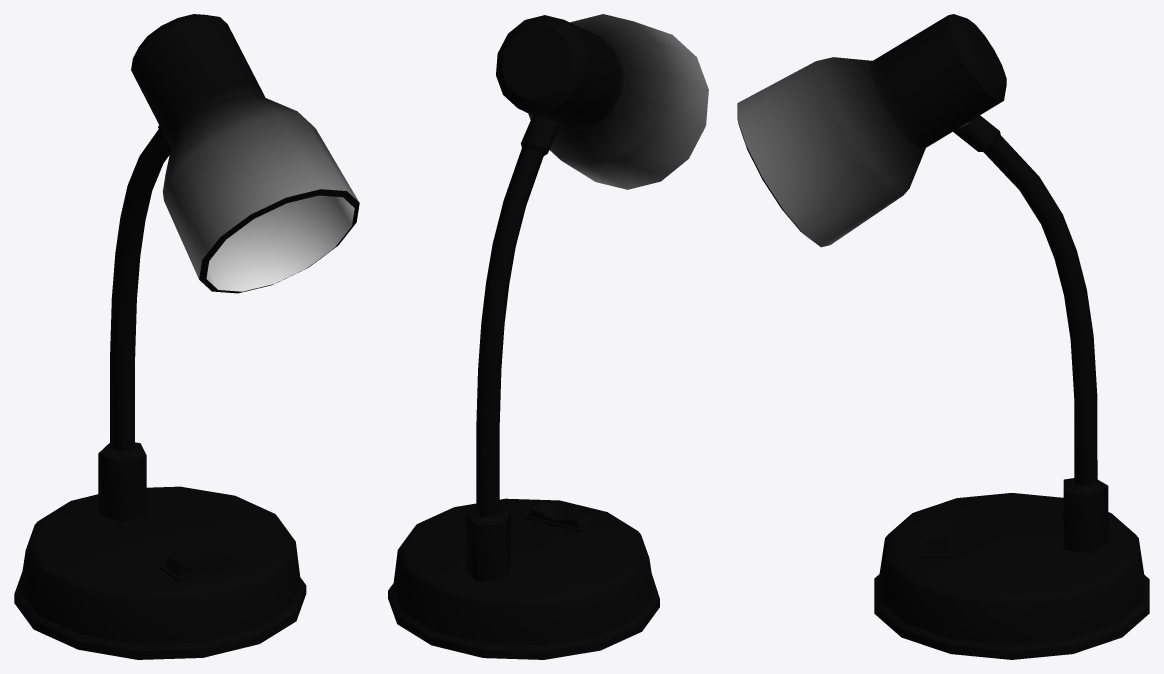
Rendered from lamp_desk.fbx.
The picture shows the model from 3 angles, left to right: view 1: azimuth 30°, elevation 25°; view 2: azimuth 150°, elevation 25°; view 3: azimuth 270°, elevation 25°; orthographic projection. The views are drawn at different scales.
Visible parts, largest first — view 1: base, neck; view 2: base, neck; view 3: base, neck.
Part boxes in pixels (x1,y1,x2,y2): base: (19, 14, 359, 644); neck: (14, 125, 306, 659); base: (393, 14, 708, 645); neck: (388, 116, 659, 659); base: (737, 14, 1144, 644); neck: (874, 115, 1149, 659).
Bounding box in the file's own units: 1.01 × 2.3 × 1.48.
